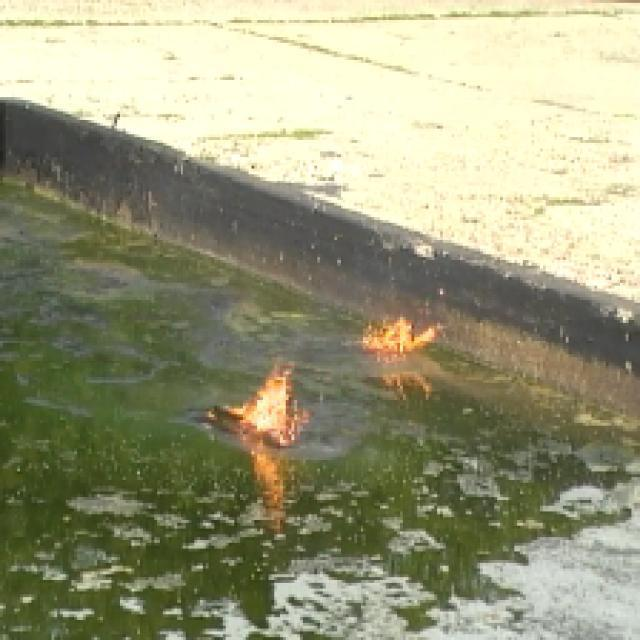Fire: (232, 364, 314, 450), (375, 296, 453, 382)
